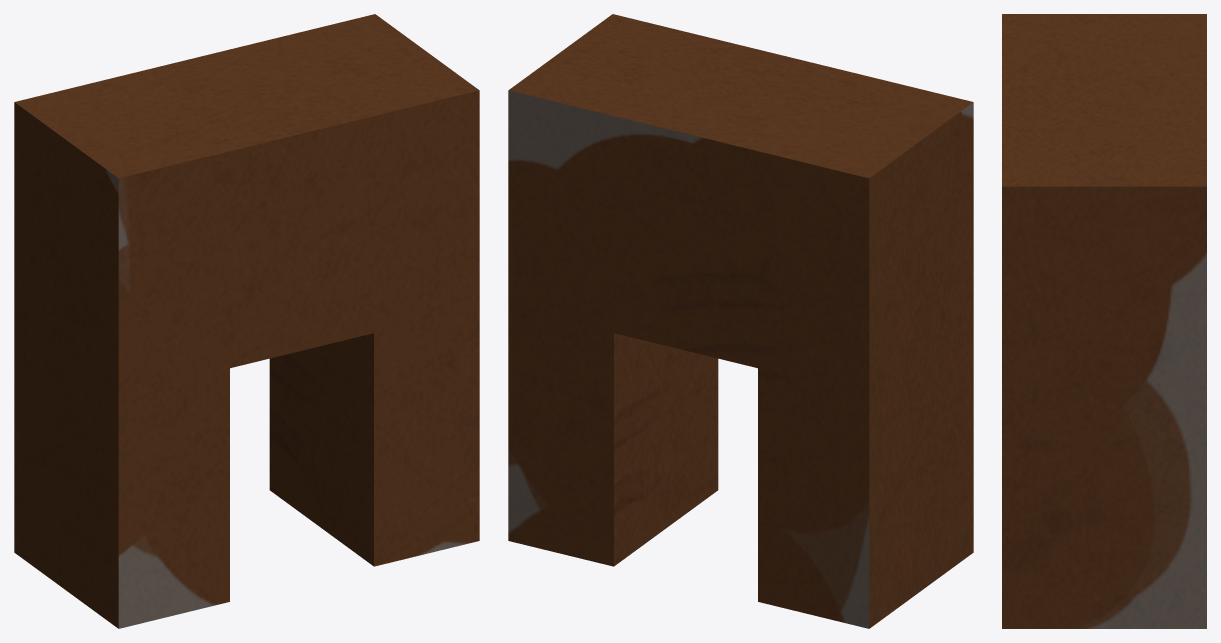
The model's file is door.fbx.
3 views of the same model, side by side, from view 1: azimuth 30°, elevation 25°; view 2: azimuth 150°, elevation 25°; view 3: azimuth 270°, elevation 25° (orthographic).
Visible parts, largest first — view 1: pPlane11; view 2: pPlane11; view 3: pPlane11.
Boxes of the visible parts, x1,y1,x2,y2 form: pPlane11: (14, 14, 479, 628); pPlane11: (508, 14, 973, 628); pPlane11: (1002, 14, 1206, 628).
Bounding box in the file's own units: 3.2 × 3.81 × 1.6.
Materials: 1 (1 with a texture image).
